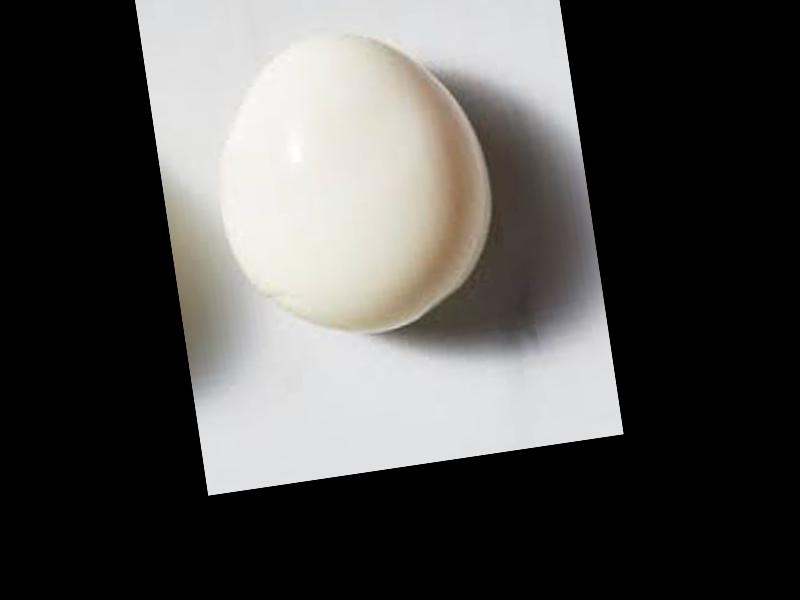Eggs: (199, 17, 508, 353)
